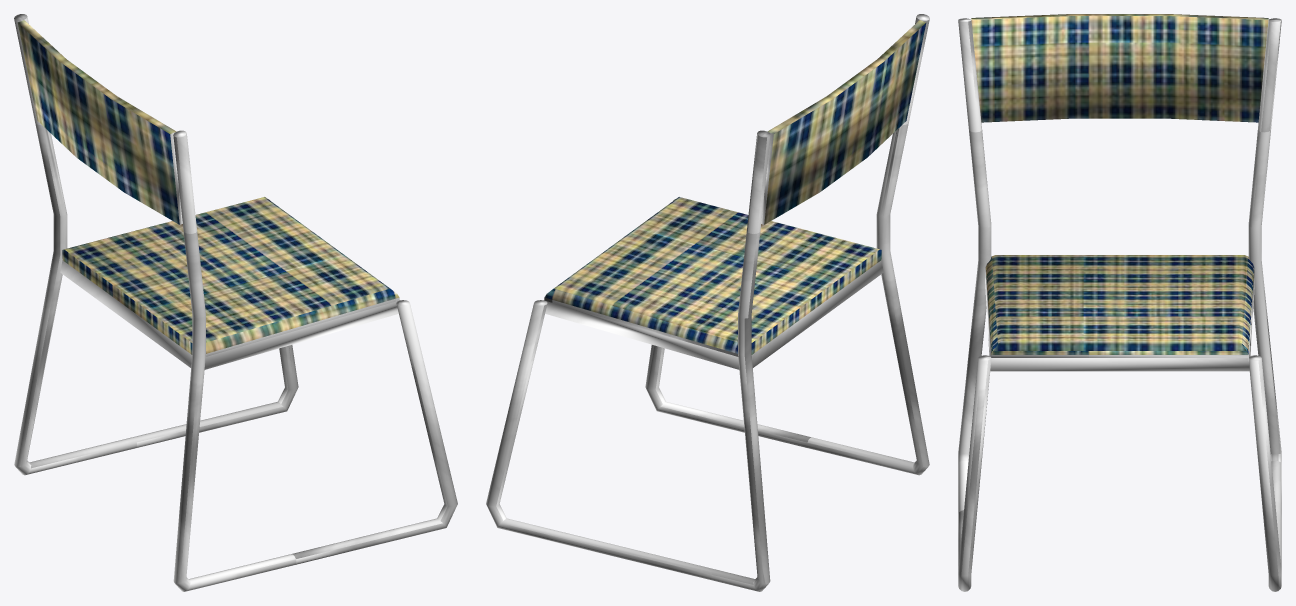
File: TubularSteelChair.fbx
3 renders of one model, left to right at view 1: azimuth 30°, elevation 25°; view 2: azimuth 150°, elevation 25°; view 3: azimuth 270°, elevation 25°, orthographic. The views are drawn at different scales.
Visible parts, largest first — view 1: default; view 2: default; view 3: default.
Boxes of the visible parts, x1,y1,x2,y2 form: default: (14, 14, 457, 591); default: (486, 14, 929, 591); default: (958, 14, 1281, 591).
Size of the model in its own units: 402 by 605 by 397.
